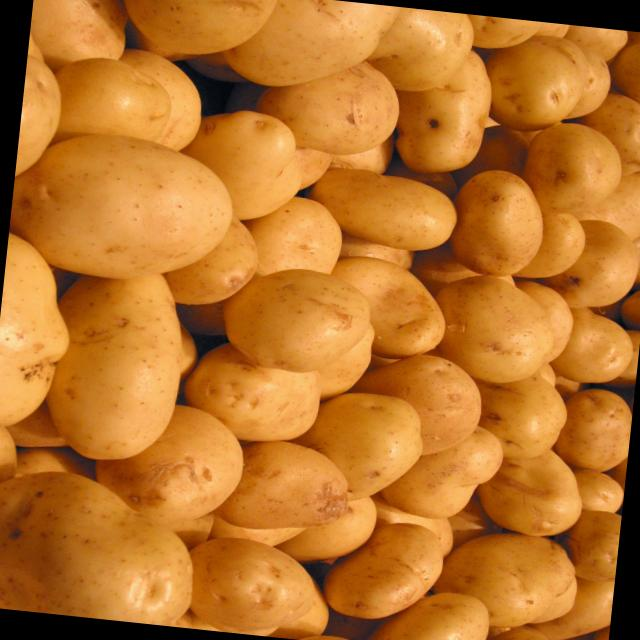potato: (4, 130, 242, 290), (38, 264, 183, 466), (183, 533, 336, 640), (225, 262, 368, 374), (428, 272, 558, 392), (320, 515, 450, 633), (310, 164, 460, 264), (212, 436, 354, 539), (186, 105, 298, 227), (448, 164, 550, 284), (534, 123, 618, 214)
